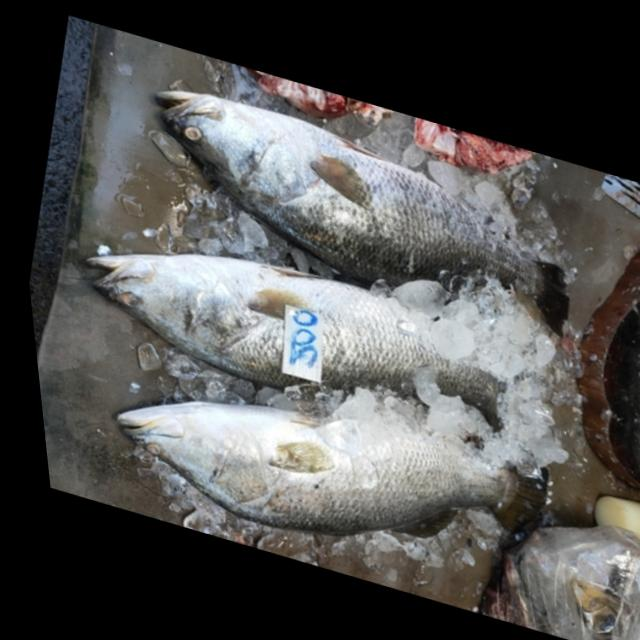Seabass: (120, 73, 600, 344), (91, 337, 567, 601), (55, 201, 533, 455)
